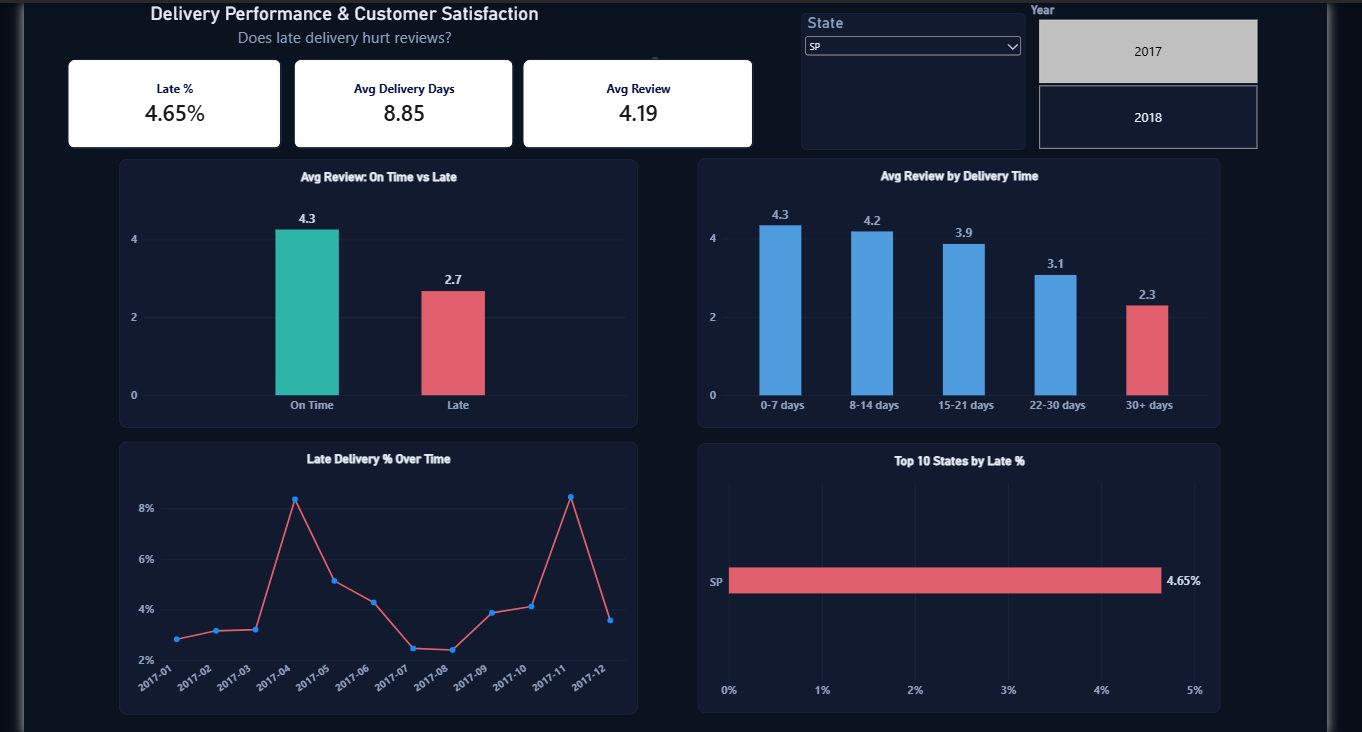

The dashboard page shown, as its layout file describes it:
{"tool":"powerbi","page":{"name":"Delivery and Satisfaction","canvas":[1920,1080],"ordinal":1},"visuals":[{"type":"textbox","title":"Delivery Performance & Customer Satisfaction","box":[10.3,0,922.1,82.3],"z":0},{"type":"cardVisual","fields":{"Data":["fact_items.Late %"]},"box":[63.8,82.3,314.9,131.7],"z":3000},{"type":"cardVisual","fields":{"Data":["fact_items.Avg Delivery Days"]},"box":[397.3,82.3,323.2,131.7],"z":4000},{"type":"cardVisual","fields":{"Data":["fact_items.Review Avg"]},"box":[734.8,82.3,339.6,131.7],"z":5000},{"type":"clusteredColumnChart","title":"Avg Review: On Time vs Late","fields":{"Category":["fact_items.Delivery Status"],"Y":["fact_items.Review Avg"]},"box":[140,230.5,763.6,395.2],"z":6000},{"type":"clusteredColumnChart","title":"Avg Review by Delivery Time","fields":{"Category":["fact_items.Delivery Bucket"],"Y":["fact_items.Review Avg"]},"box":[992.1,228.5,769.8,397.3],"z":7000},{"type":"clusteredBarChart","title":"Top 10 States by Late %","fields":{"Category":["dim_customers.customer_state"],"Y":["fact_items.Late %"]},"box":[992.1,648.4,769.8,397.3],"z":8000},{"type":"lineChart","title":"Late Delivery % Over Time","fields":{"Category":["Dim_Date.Year-Month"],"Y":["fact_items.Late %"]},"box":[140,646.3,763.6,401.4],"z":9000},{"type":"slicer","fields":{"Values":["dim_customers.customer_state"]},"box":[1144.4,14.4,329.3,201.7],"z":9001},{"type":"slicer","fields":{"Values":["Dim_Date.Year"]},"box":[1473.8,0,360.2,216.1],"z":9002}]}

Visuals, with their boxes on the page's 1920x1080 design canvas (x1, y1, x2, y2). These are canvas units, not pixel positions in the 1362x732 screenshot, which may show the page scaled, cropped or inside an application window:
"Delivery Performance & Customer Satisfaction" textbox: {"x1": 10, "y1": 0, "x2": 932, "y2": 82}
cardVisual - fact_items.Late %: {"x1": 64, "y1": 82, "x2": 379, "y2": 214}
cardVisual - fact_items.Avg Delivery Days: {"x1": 397, "y1": 82, "x2": 720, "y2": 214}
cardVisual - fact_items.Review Avg: {"x1": 735, "y1": 82, "x2": 1074, "y2": 214}
"Avg Review: On Time vs Late" clusteredColumnChart: {"x1": 140, "y1": 230, "x2": 904, "y2": 626}
"Avg Review by Delivery Time" clusteredColumnChart: {"x1": 992, "y1": 228, "x2": 1762, "y2": 626}
"Top 10 States by Late %" clusteredBarChart: {"x1": 992, "y1": 648, "x2": 1762, "y2": 1046}
"Late Delivery % Over Time" lineChart: {"x1": 140, "y1": 646, "x2": 904, "y2": 1048}
slicer - dim_customers.customer_state: {"x1": 1144, "y1": 14, "x2": 1474, "y2": 216}
slicer - Dim_Date.Year: {"x1": 1474, "y1": 0, "x2": 1834, "y2": 216}
